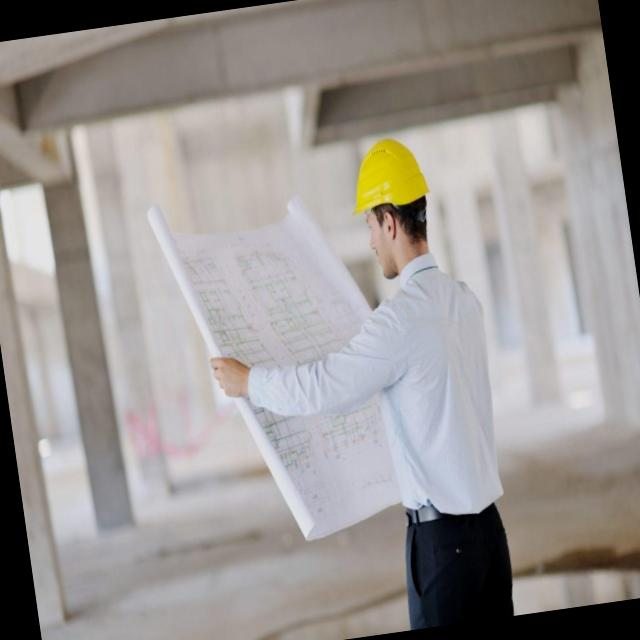helmet: (333, 126, 442, 239)
no-vest: (348, 241, 517, 526)
